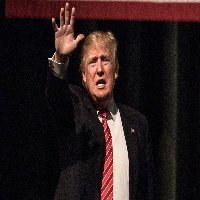ring: (58, 5, 67, 29)
